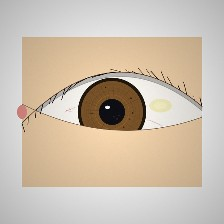pinguecula_lesion: (138, 88, 183, 124)
